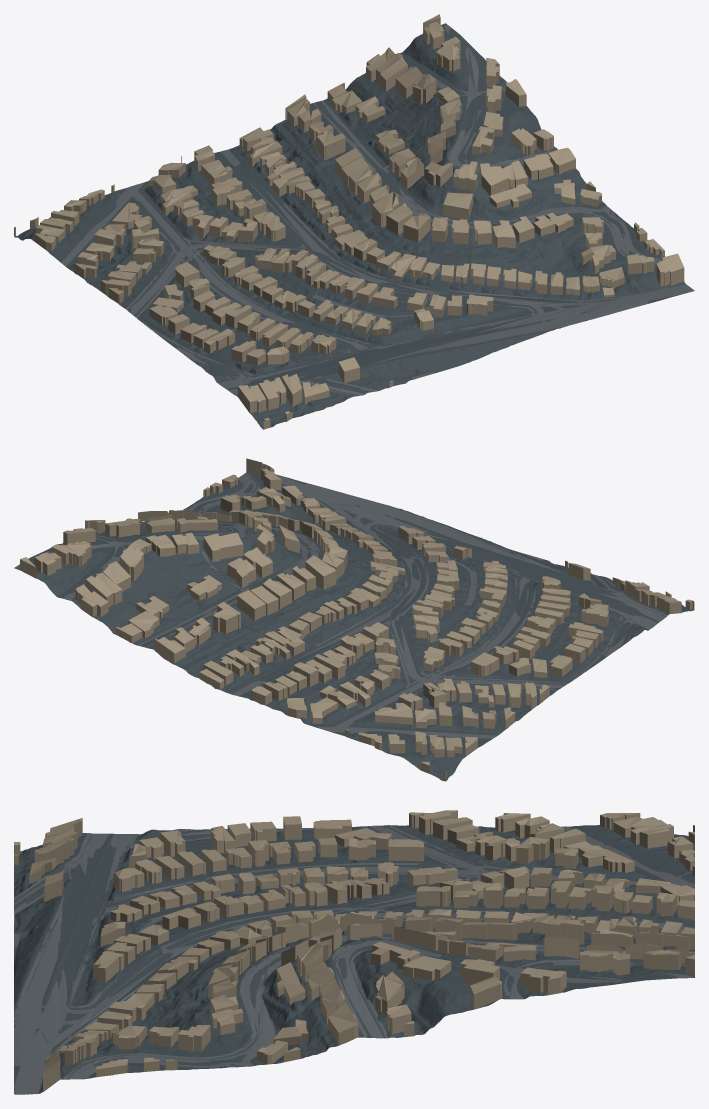
File: epsg26910-1425-10877.lod0.glb
3 renders of one model, top to bottom at view 1: azimuth 30°, elevation 25°; view 2: azimuth 150°, elevation 25°; view 3: azimuth 270°, elevation 25°, orthographic. The views are drawn at different scales.
Parts seen in each view (by area): view 1: epsg26910-1425-10877-lod0; view 2: epsg26910-1425-10877-lod0; view 3: epsg26910-1425-10877-lod0.
Boxes of the visible parts, x1,y1,x2,y2 form: epsg26910-1425-10877-lod0: (14,14,694,429); epsg26910-1425-10877-lod0: (14,458,694,781); epsg26910-1425-10877-lod0: (14,810,694,1094).
Size of the model in its own units: 384 by 110 by 384.
